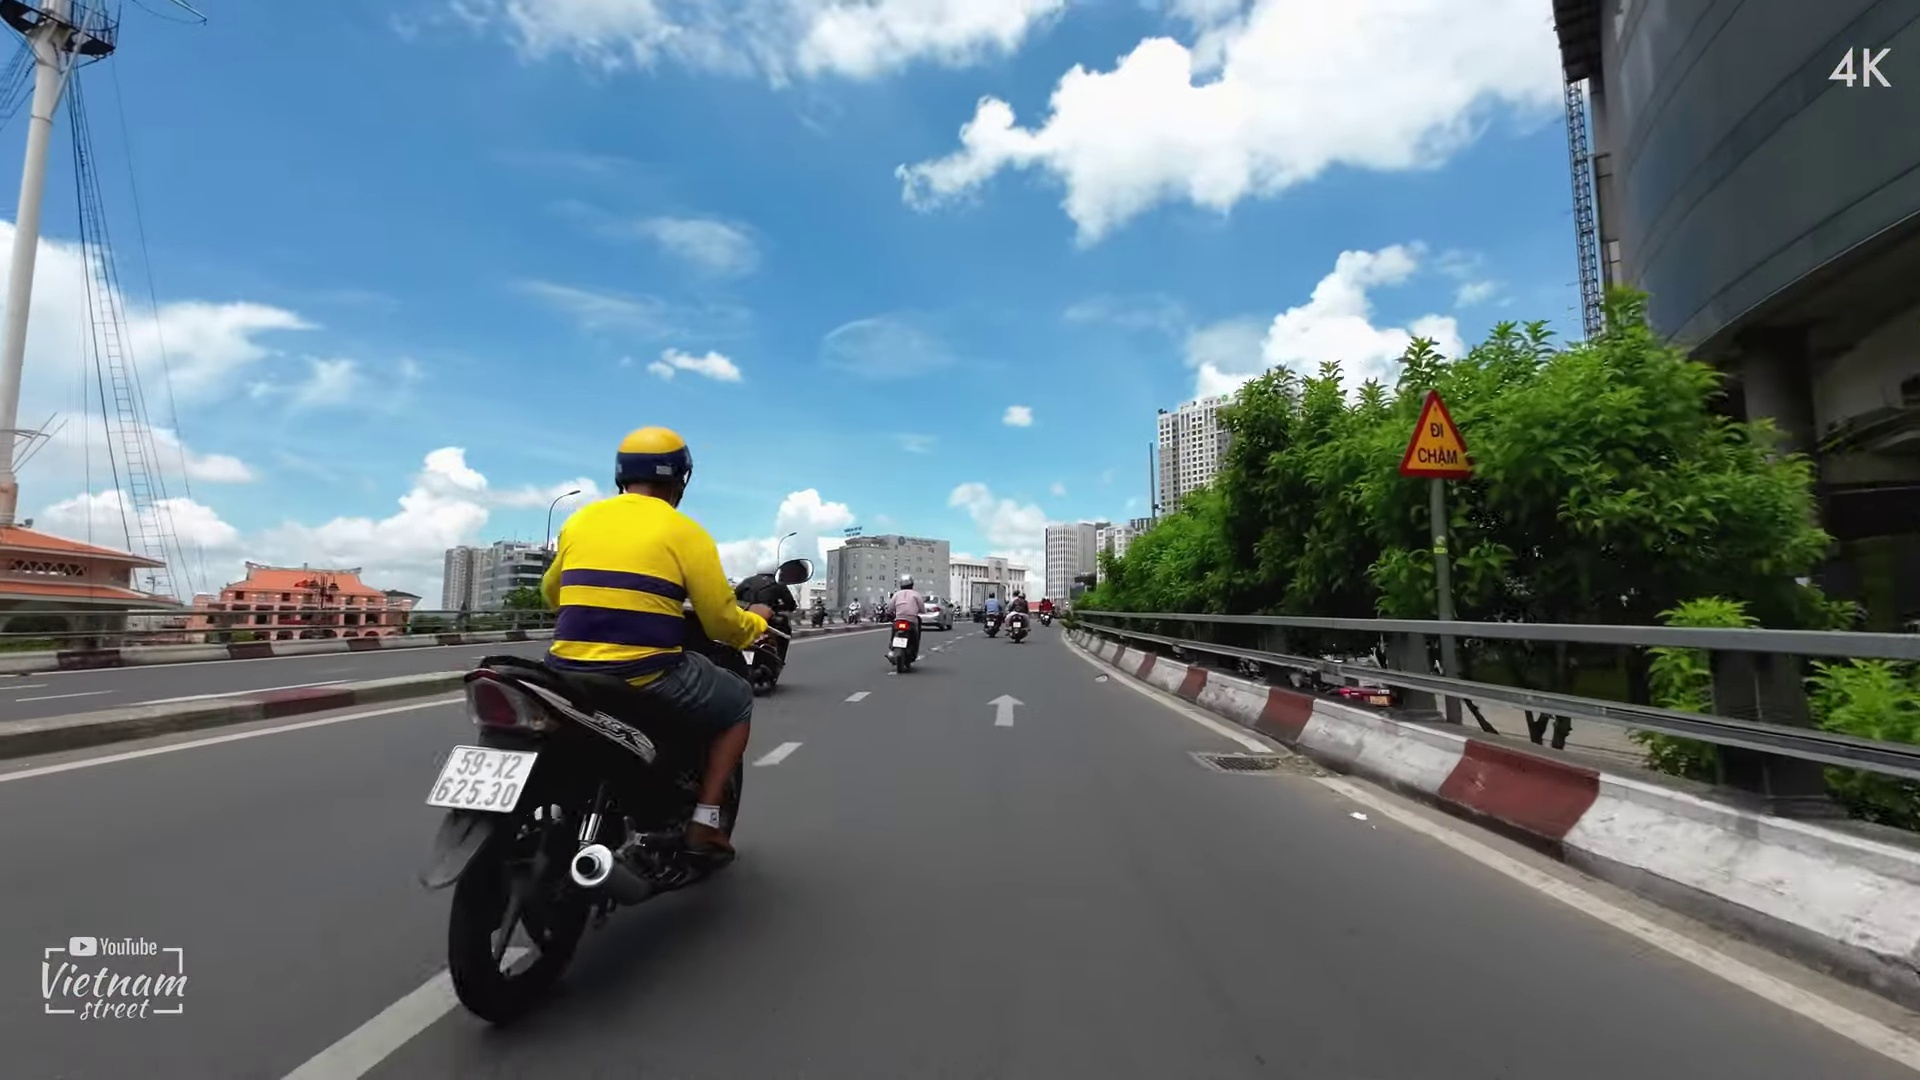di_cham: (1393, 380, 1487, 480)
